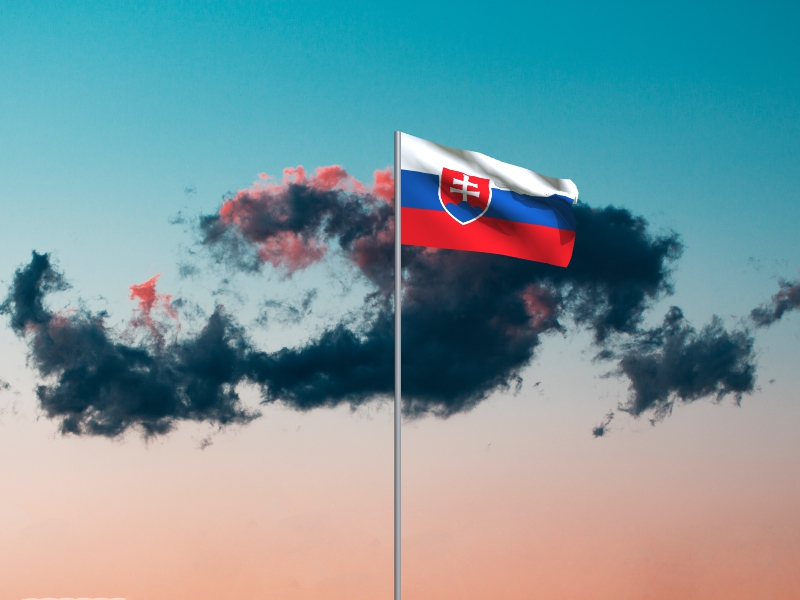sk: (402, 133, 580, 268)
